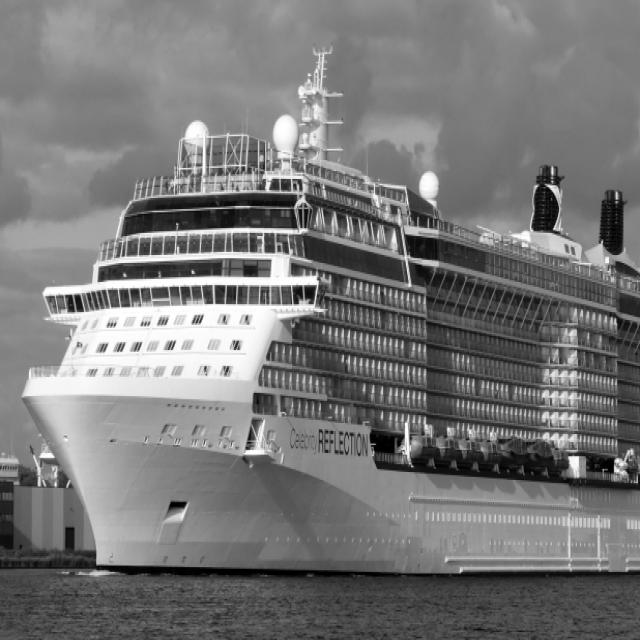cruises: (17, 47, 640, 595)
